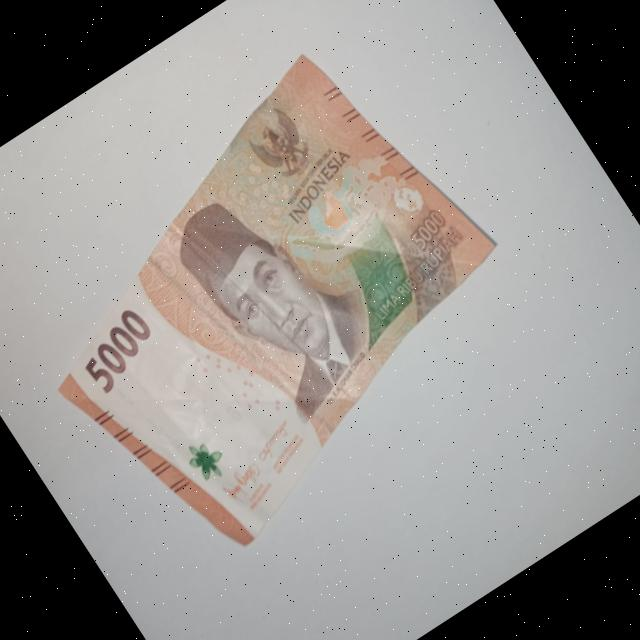5K: (0, 7, 576, 606)
